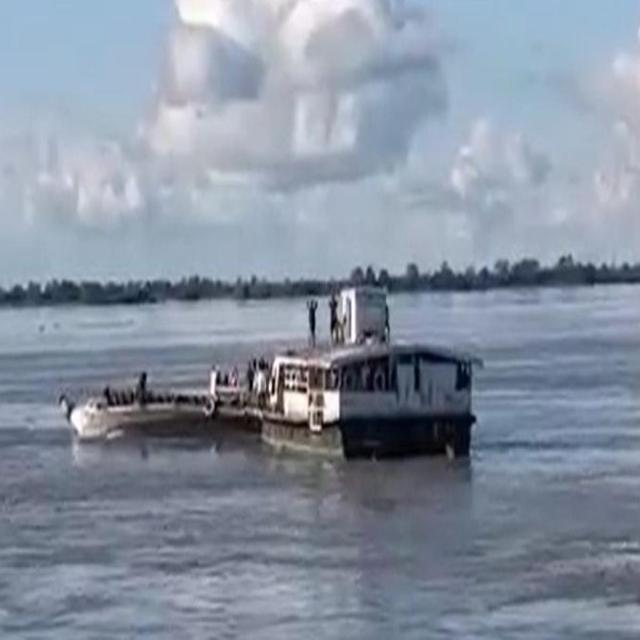houseboat: (253, 253, 476, 461)
